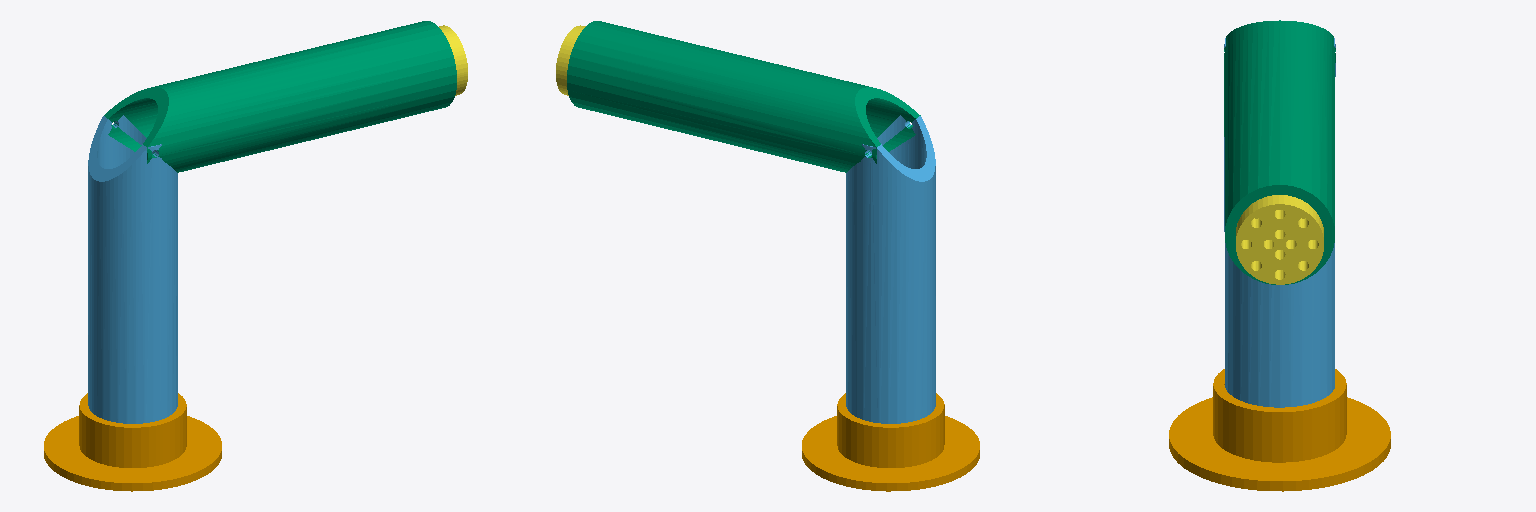
The robot description file, URDF, robot "3_DOF_ARM_description_obj":
<?xml version="1.0" encoding="utf-8"?>
<!-- This URDF was automatically created by SolidWorks to URDF Exporter! Originally created by Stephen Brawner (brawner@gmail.com) 
     Commit Version: obj-example-export  Build Version: 1.6.9810.32936
     For more information, please see http://wiki.ros.org/sw_urdf_exporter -->
<robot
  name="3_DOF_ARM_description_obj">
  <link
    name="base_link">
    <inertial>
      <origin
        xyz="0.00249115384615384 2.34558007901714E-18 0.00305587412587413"
        rpy="0 0 0" />
      <mass
        value="0.0510508806208341" />
      <inertia
        ixx="3.5234044049786E-05"
        ixy="6.98466777397284E-37"
        ixz="-2.22339710804804E-37"
        iyy="3.5234044049786E-05"
        iyz="-5.44519126841819E-22"
        izz="6.24882413753095E-05" />
    </inertial>
    <visual>
      <origin
        xyz="0 0 0"
        rpy="1.5707963267949 0 0" />
      <geometry>
        <mesh
          filename="package://3_DOF_ARM_description_obj/meshes/base_link.obj" />
      </geometry>
    </visual>
    <collision>
      <origin
        xyz="0 0 0"
        rpy="1.5707963267949 0 0" />
      <geometry>
        <mesh
          filename="package://3_DOF_ARM_description_obj/meshes/base_link.obj" />
      </geometry>
    </collision>
  </link>
  <link
    name="prox_link">
    <inertial>
      <origin
        xyz="6.94771684018738E-10 -0.0881460587278585 2.58403335187674E-10"
        rpy="0 0 0" />
      <mass
        value="0.132570921155528" />
      <inertia
        ixx="0.000425622211946537"
        ixy="7.66166107697545E-12"
        ixz="1.12207653870009E-10"
        iyy="6.78913907046572E-05"
        iyz="2.10847230654448E-12"
        izz="0.000427554426874909" />
    </inertial>
    <visual>
      <origin
        xyz="-1.08036576479824E-19 3.24109729439473E-19 -0.00249115384615384"
        rpy="-3.14159265358979 -1.5707963267949 0" />
      <geometry>
        <mesh
          filename="package://3_DOF_ARM_description_obj/meshes/prox_link.obj" />
      </geometry>
    </visual>
    <collision>
      <origin
        xyz="-1.08036576479824E-19 3.24109729439473E-19 -0.00249115384615384"
        rpy="-3.14159265358979 -1.5707963267949 0" />
      <geometry>
        <mesh
          filename="package://3_DOF_ARM_description_obj/meshes/prox_link.obj" />
      </geometry>
    </collision>
  </link>
  <joint
    name="prox_joint"
    type="continuous">
    <origin
      xyz="0.00249115384615384 0 0"
      rpy="-1.5707963267949 0 -1.5707963267949" />
    <parent
      link="base_link" />
    <child
      link="prox_link" />
    <axis
      xyz="0 1 0" />
    <safety_controller
      k_velocity="0" />
  </joint>
  <link
    name="dist_Link">
    <inertial>
      <origin
        xyz="6.9477172498596E-10 -0.101063661551862 -2.58403354269632E-10"
        rpy="0 0 0" />
      <mass
        value="0.132570921155528" />
      <inertia
        ixx="0.000425622211946537"
        ixy="-7.66166113626829E-12"
        ixz="-1.12207653887645E-10"
        iyy="6.78913907046571E-05"
        iyz="2.10847236627372E-12"
        izz="0.000427554426874909" />
    </inertial>
    <visual>
      <origin
        xyz="-1.52534141417452E-19 0.00249115384615383 0.18920972027972"
        rpy="-1.5707963267949 0 -1.5707963267949" />
      <geometry>
        <mesh
          filename="package://3_DOF_ARM_description_obj/meshes/dist_Link.obj" />
      </geometry>
    </visual>
    <collision>
      <origin
        xyz="-1.52534141417452E-19 0.00249115384615383 0.18920972027972"
        rpy="-1.5707963267949 0 -1.5707963267949" />
      <geometry>
        <mesh
          filename="package://3_DOF_ARM_description_obj/meshes/dist_Link.obj" />
      </geometry>
    </collision>
  </link>
  <joint
    name="dist_joint"
    type="continuous">
    <origin
      xyz="0 -0.18920972027972 0"
      rpy="-1.5707963267949 0 0" />
    <parent
      link="prox_link" />
    <child
      link="dist_Link" />
    <axis
      xyz="-1 0 0" />
    <safety_controller
      k_velocity="0" />
  </joint>
  <link
    name="effector_link">
    <inertial>
      <origin
        xyz="7.89598164219583E-17 -1.94289029309402E-16 0.0118918918918916"
        rpy="0 0 0" />
      <mass
        value="0.0290597320457048" />
      <inertia
        ixx="4.42470815817501E-06"
        ixy="1.74592709332674E-21"
        ixz="-1.05648570847946E-20"
        iyy="4.424708158175E-06"
        iyz="4.84580112853628E-20"
        izz="5.90275807178375E-06" />
    </inertial>
    <visual>
      <origin
        xyz="-1.41875192845225E-33 0.18920972027972 -0.182491153846154"
        rpy="-3.14159265358979 -1.5707963267949 0" />
      <geometry>
        <mesh
          filename="package://3_DOF_ARM_description_obj/meshes/effector_link.obj" />
      </geometry>
    </visual>
    <collision>
      <origin
        xyz="-1.41875192845225E-33 0.18920972027972 -0.182491153846154"
        rpy="-3.14159265358979 -1.5707963267949 0" />
      <geometry>
        <mesh
          filename="package://3_DOF_ARM_description_obj/meshes/effector_link.obj" />
      </geometry>
    </collision>
  </link>
  <joint
    name="effector_joint"
    type="continuous">
    <origin
      xyz="0 -0.18 0"
      rpy="1.5707963267949 0 0" />
    <parent
      link="dist_Link" />
    <child
      link="effector_link" />
    <axis
      xyz="0 0 -1" />
    <safety_controller
      k_velocity="0" />
  </joint>
</robot>

--- Render facts (derived) ---
3 views of the same robot in one strip: view 1: azimuth 30°, elevation 25°; view 2: azimuth 150°, elevation 25°; view 3: azimuth 270°, elevation 25° (orthographic).
Model 3_DOF_ARM_description_obj with 4 links and 3 joints (3 continuous), rooted at base_link, posed all joints at 0.
Visible links, largest first — view 1: dist_Link, prox_link, base_link, effector_link; view 2: dist_Link, prox_link, base_link, effector_link; view 3: dist_Link, base_link, prox_link, effector_link.
Boxes of the visible links, bbox=[...] form: dist_Link: bbox=[104, 21, 456, 172]; prox_link: bbox=[88, 115, 177, 423]; base_link: bbox=[44, 393, 221, 491]; effector_link: bbox=[439, 25, 467, 95]; dist_Link: bbox=[567, 21, 920, 172]; prox_link: bbox=[846, 115, 935, 423]; base_link: bbox=[802, 393, 979, 491]; effector_link: bbox=[556, 25, 585, 95]; dist_Link: bbox=[1224, 20, 1335, 284]; base_link: bbox=[1169, 369, 1390, 491]; prox_link: bbox=[1224, 38, 1335, 407]; effector_link: bbox=[1236, 195, 1323, 284].
Size in the robot's own frame: 0.255 by 0.1 by 0.22 metres.
4 mesh visuals loaded from 4 distinct referenced files (4 OBJ).
